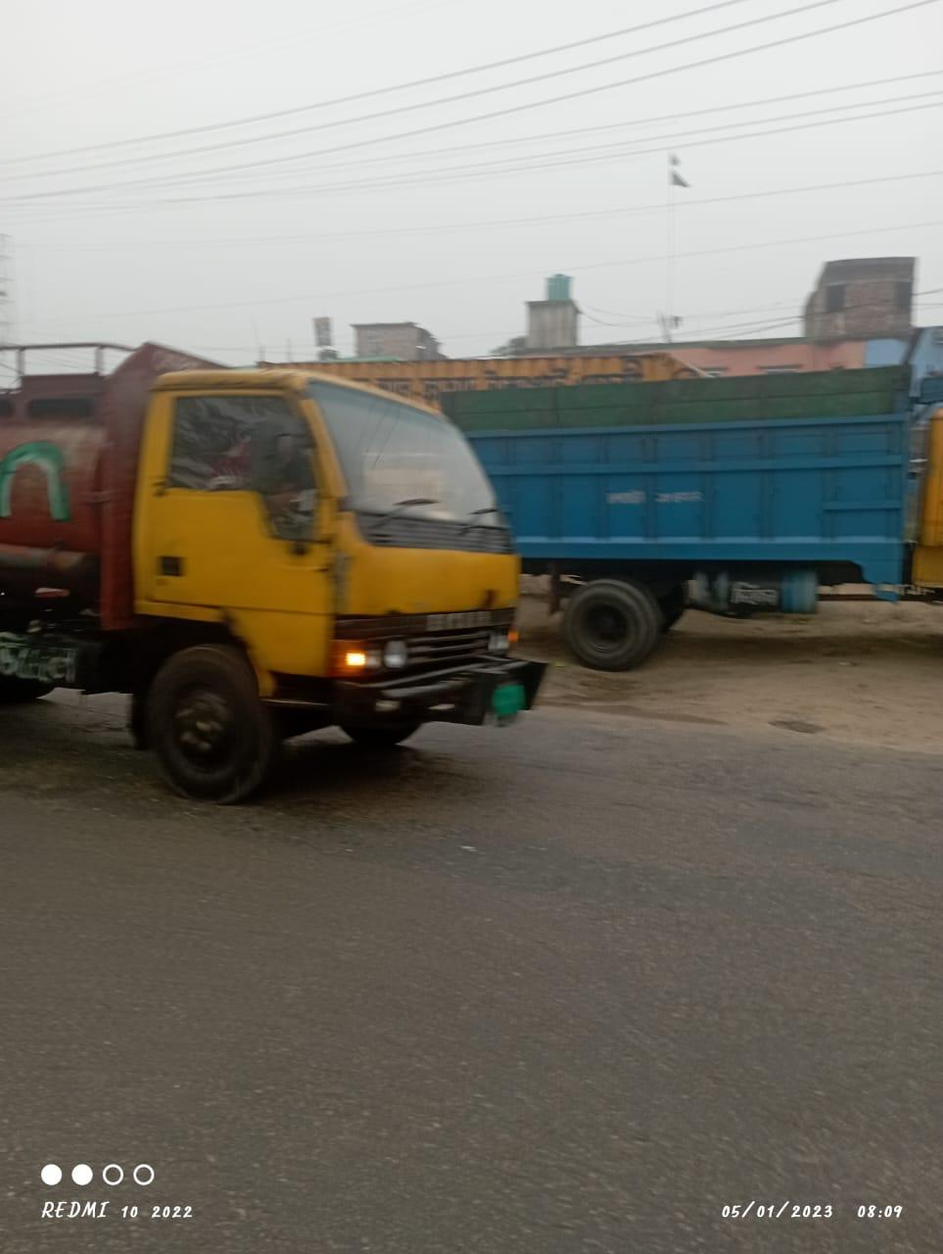Truck: (4, 320, 560, 787), (439, 362, 943, 654)
